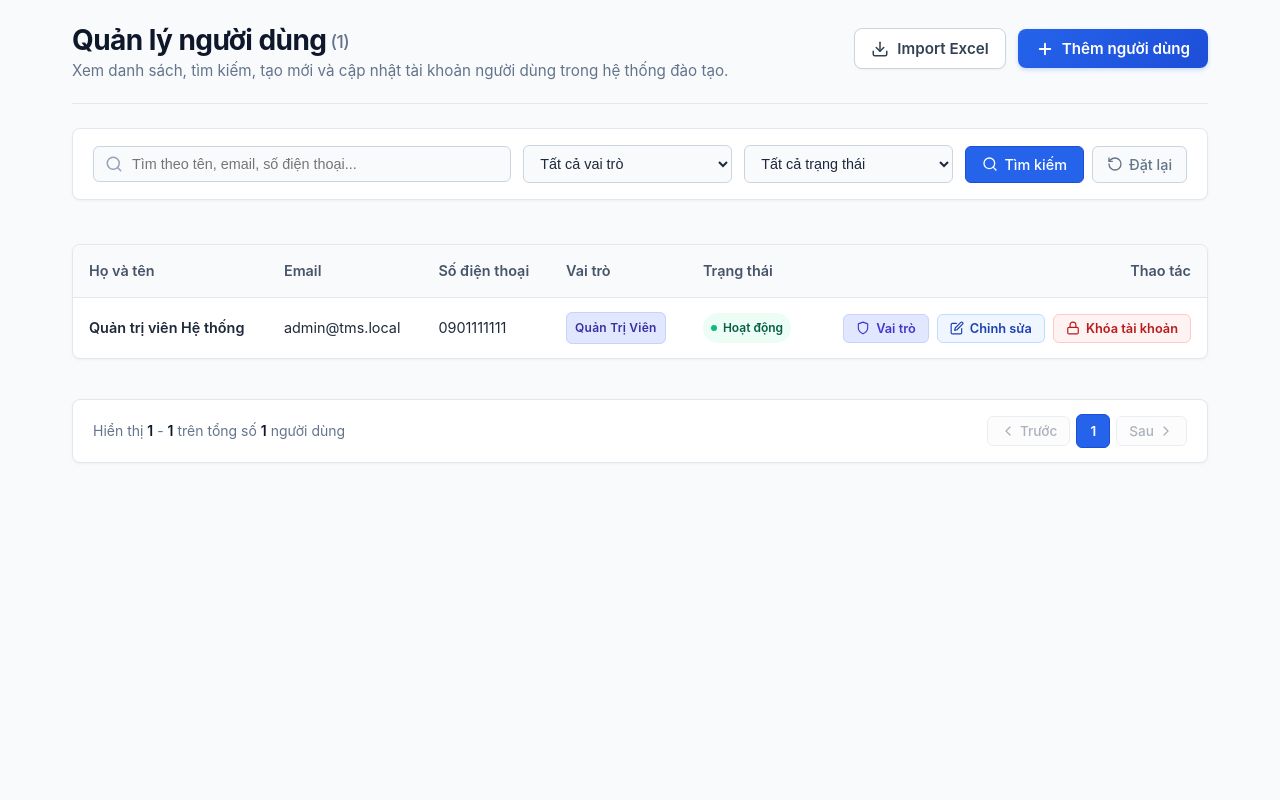
Scenario: SCRUM-110: Kiểm thử tổng thể giao diện khóa và mở khóa tài khoản (UI Overall Test Matrix) › B. Lock Operation Matrix › 5. hủy thao tác khóa không gọi API và đóng modal an toàn
Click the button with test id "btn-lock-user-u-admin-1": (1122, 328) [1053,314,1191,343]
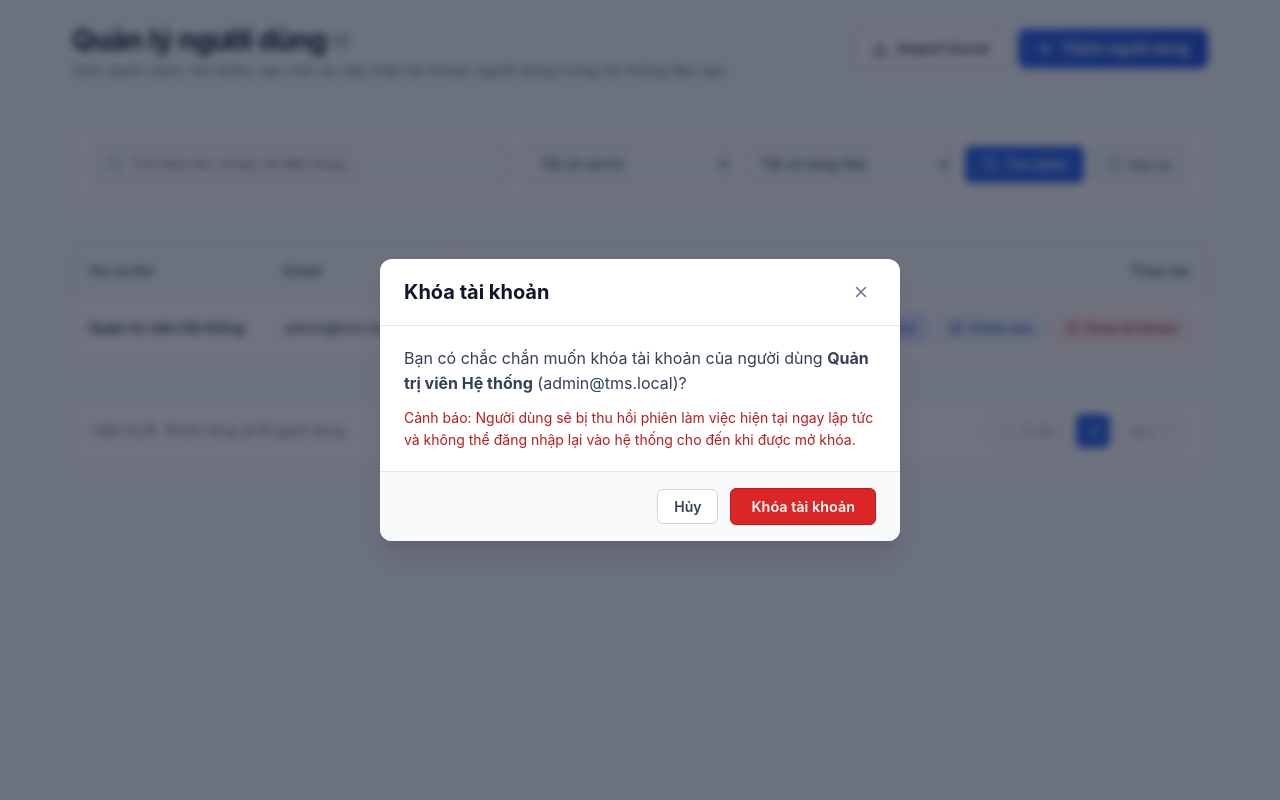
Expected: the dialog with test id "account-lock-modal" is shown, [380,258,900,542]
Click the button with test id "btn-cancel-lock": (688, 507) [657,490,718,524]
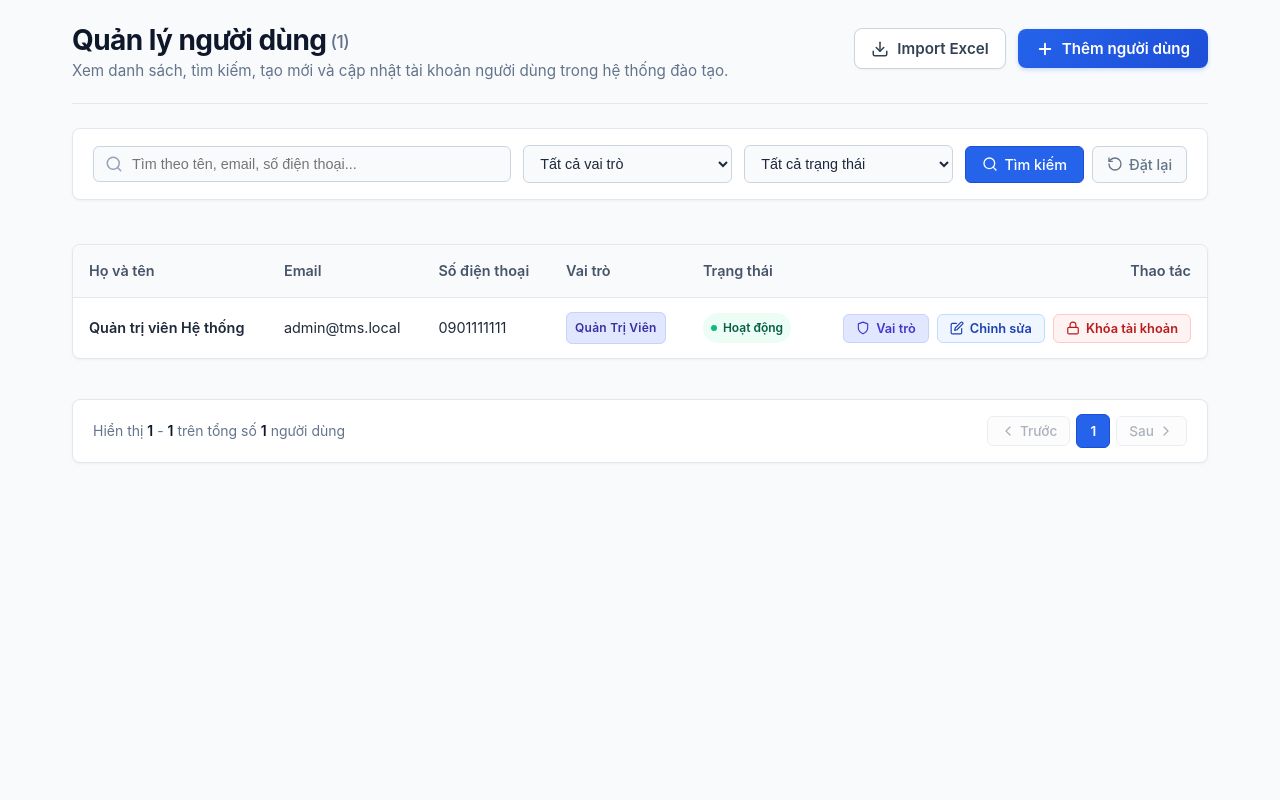
Expected: the dialog with test id "account-lock-modal" is gone
